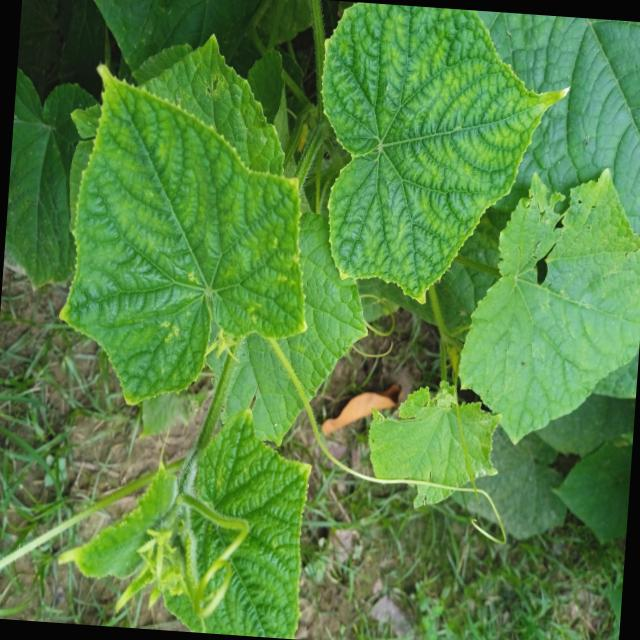cucumber_healthy: (48, 51, 332, 428), (301, 0, 575, 317), (47, 394, 323, 640), (446, 154, 640, 462), (354, 376, 510, 520)
